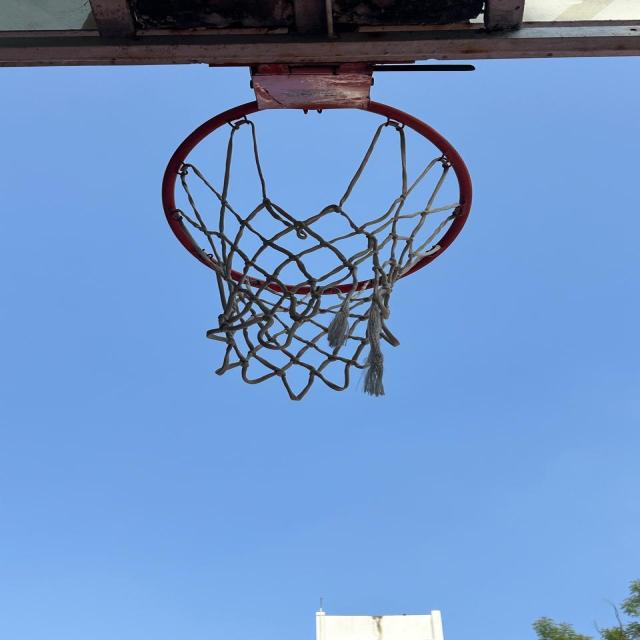hoop: (142, 63, 477, 404)
